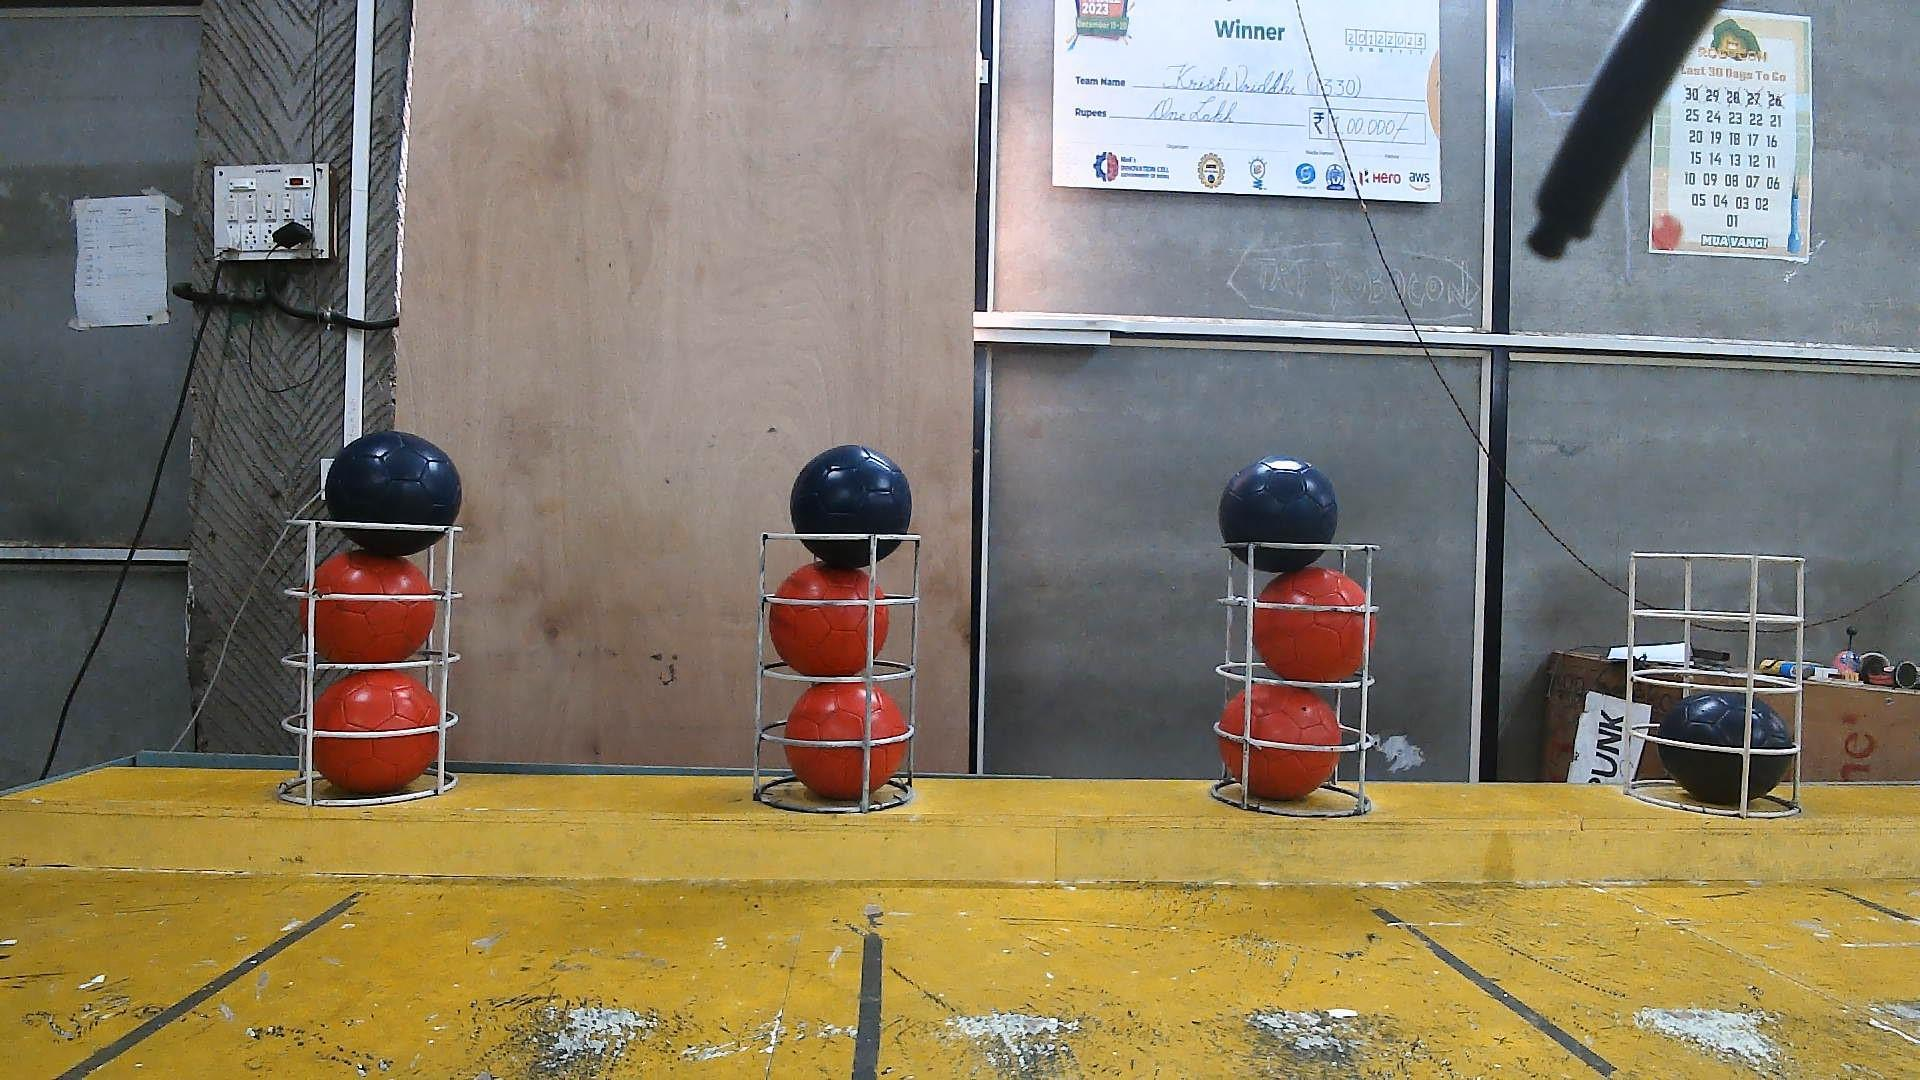dhoka: (323, 431, 462, 555), (1658, 690, 1792, 806), (791, 446, 911, 570), (1218, 458, 1338, 574)
laale: (301, 667, 446, 795), (301, 547, 435, 663), (783, 683, 907, 803), (1253, 566, 1377, 683), (1218, 683, 1342, 799), (769, 563, 889, 679)
